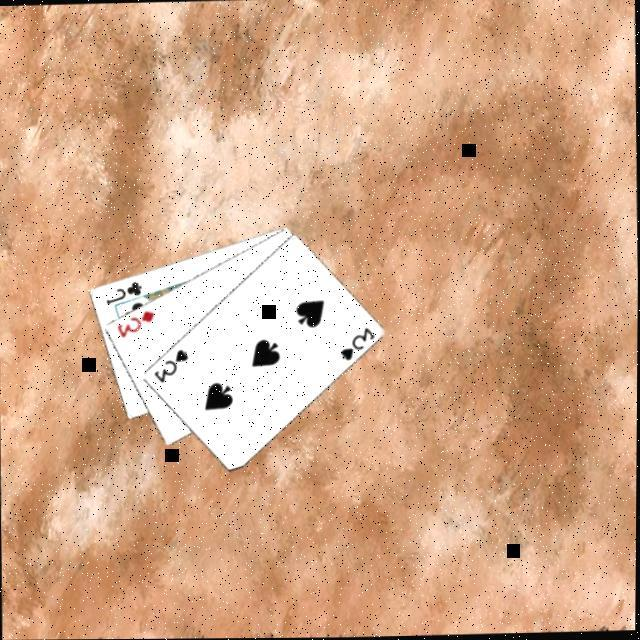3D: (111, 306, 156, 339)
3S: (148, 345, 189, 384), (335, 324, 376, 363)
JC: (100, 277, 142, 306)
